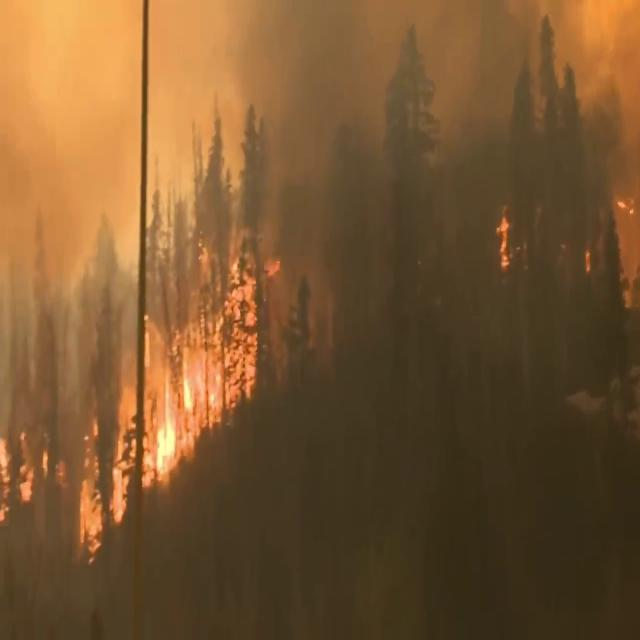Fire: (108, 236, 270, 504), (0, 424, 36, 518), (495, 202, 517, 272)
Smoke: (217, 0, 640, 423), (0, 0, 186, 395)
